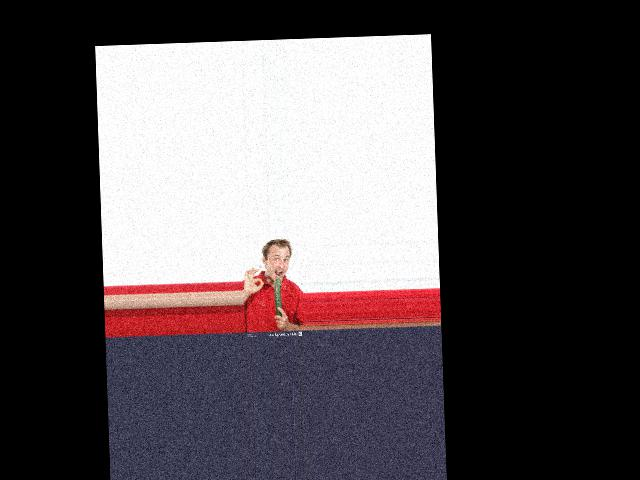cucumber: (274, 277, 281, 316)
